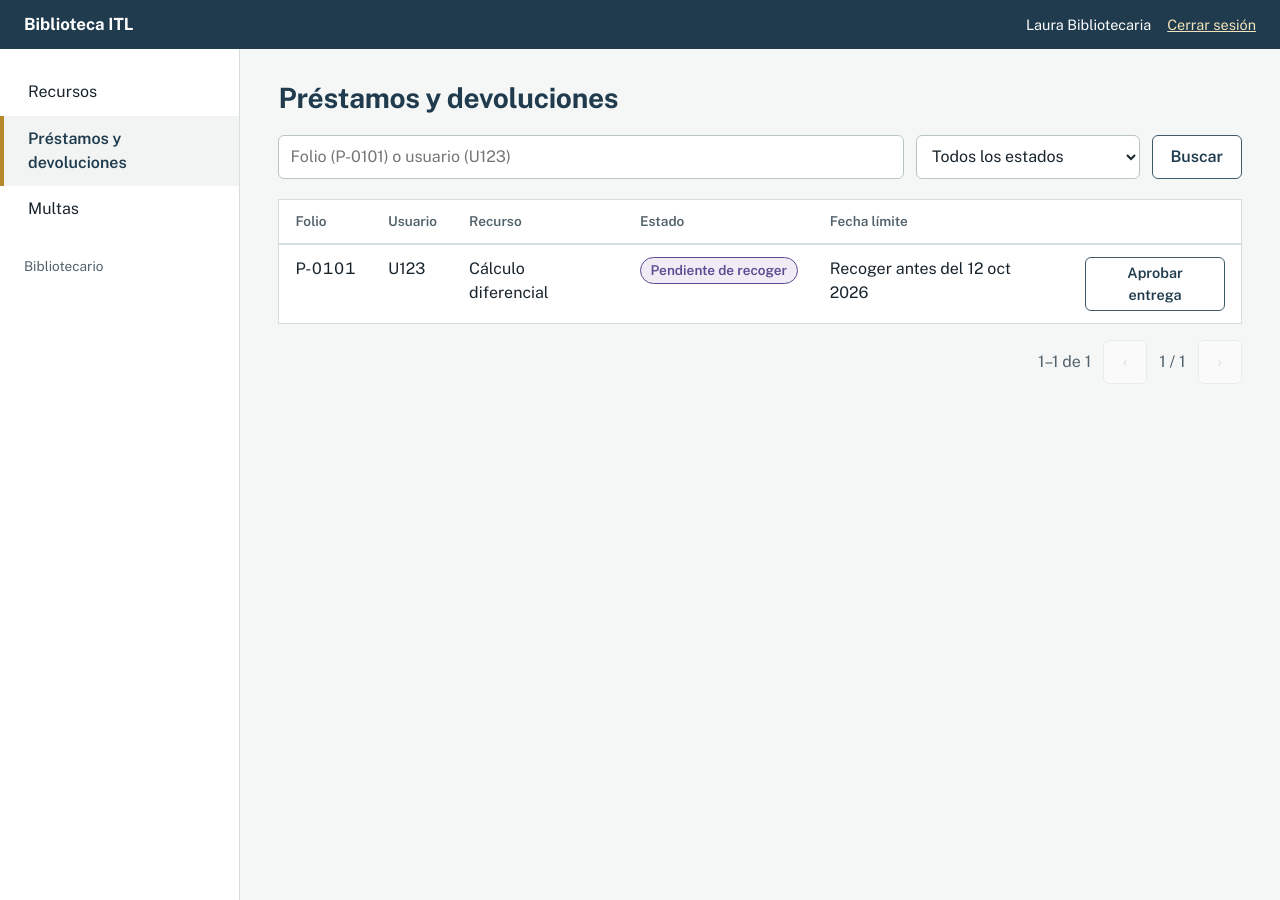
it: Préstamos y devoluciones (CU04, CU05) › Escape cierra el diálogo sin ejecutar la acción
This screenshot has width=1280, height=900.
Click the button "Aprobar entrega" at (1155, 284), box [1086,256,1225,311]
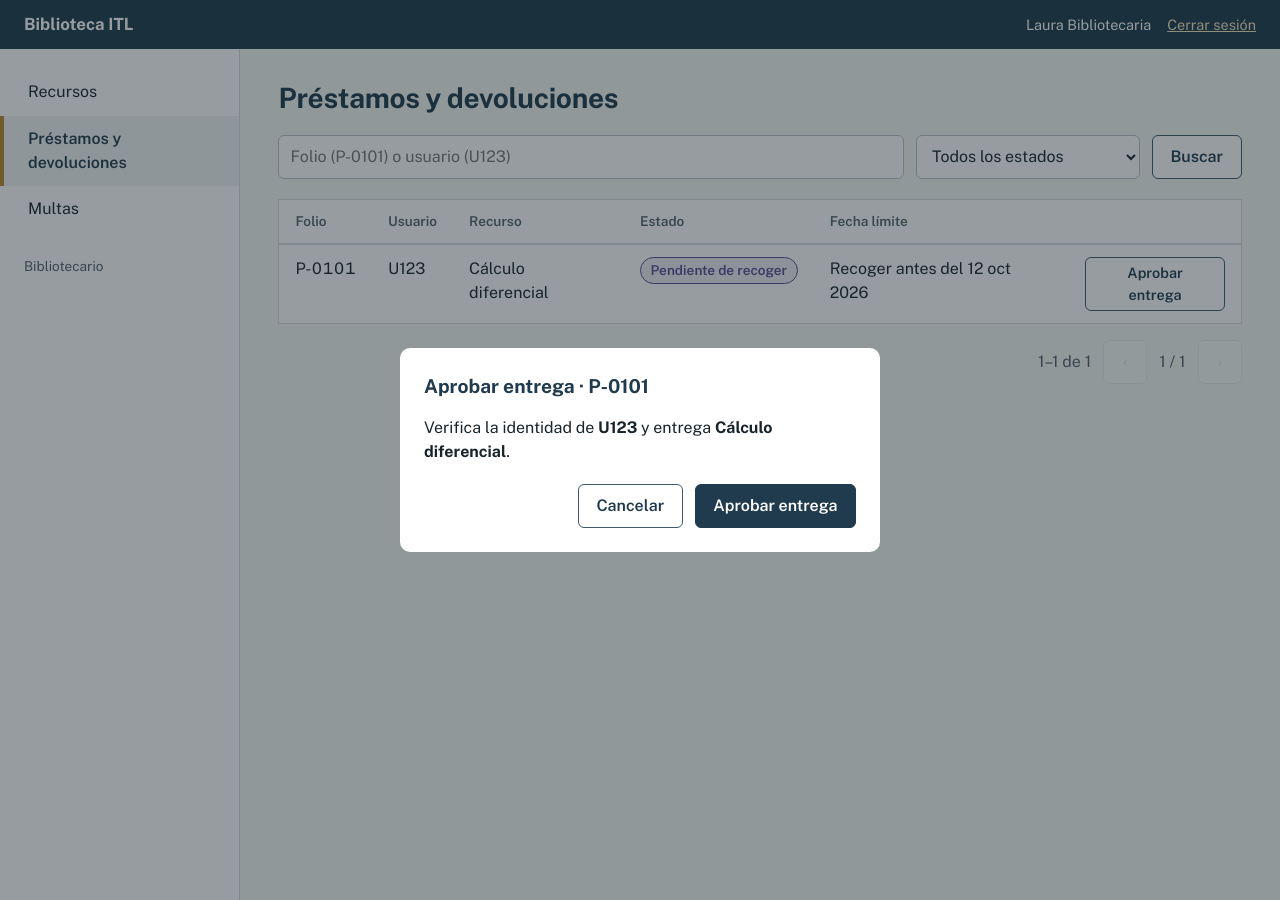
Press Escape
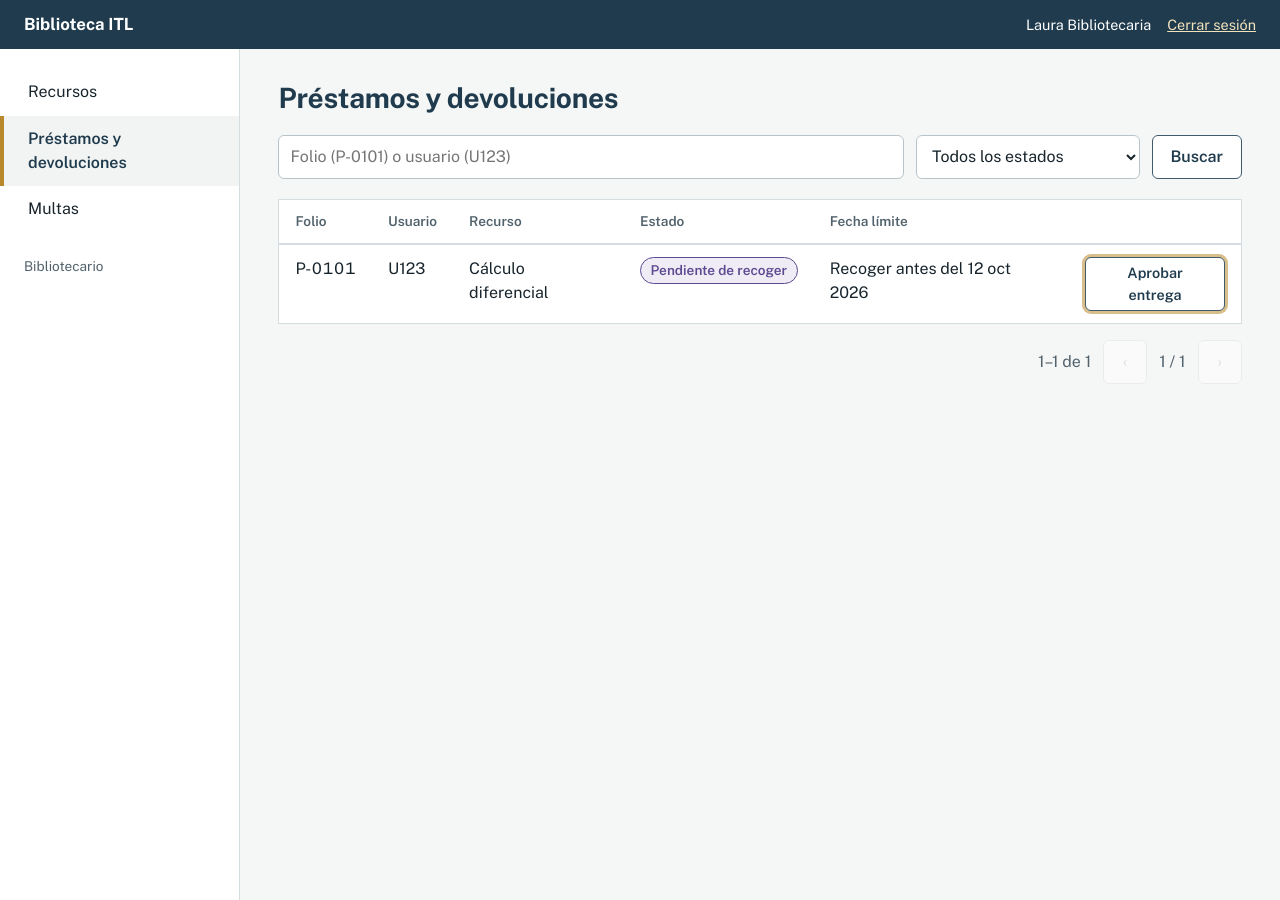
Expected: the dialog is gone
